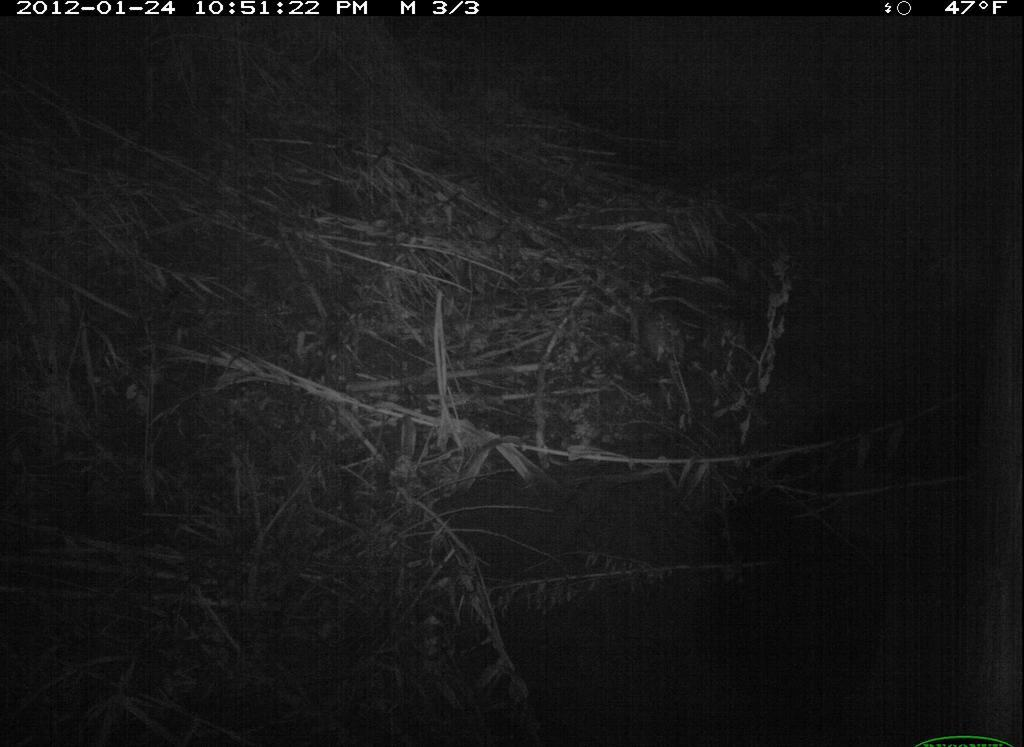opossum: (619, 280, 722, 434)
